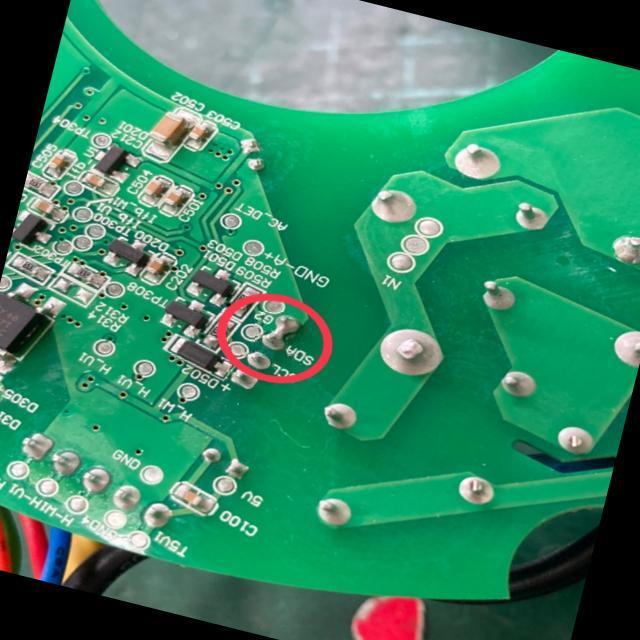damged: (256, 313, 307, 355)
